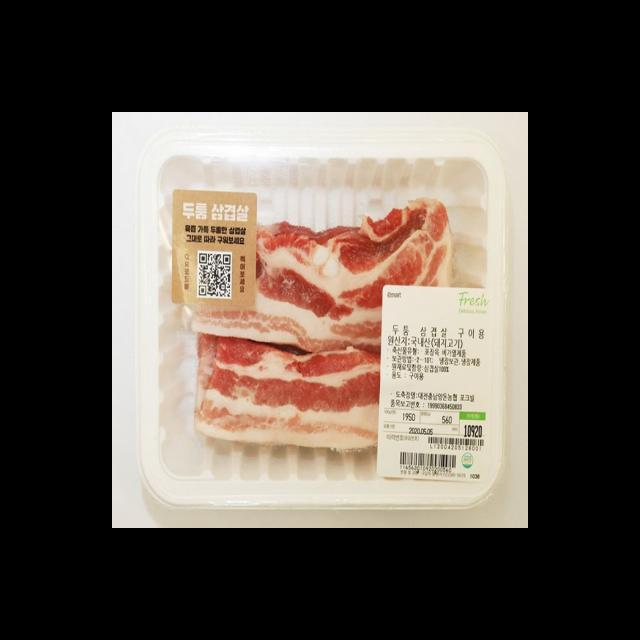pork: (167, 194, 381, 458)
